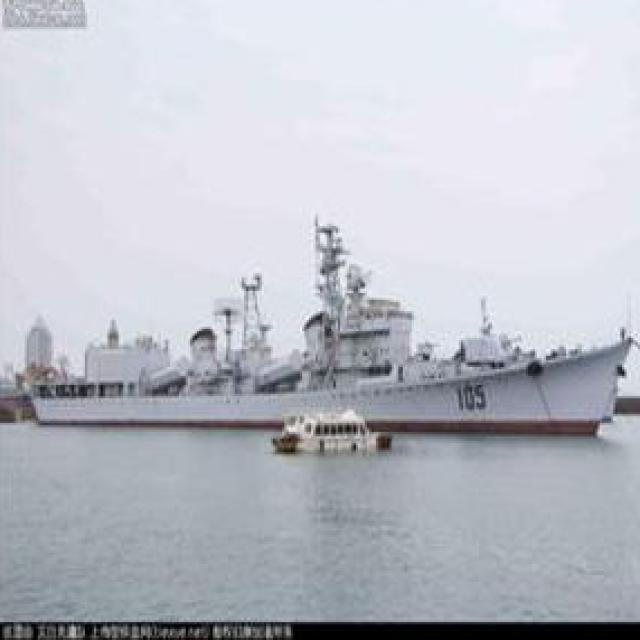houseboat: (263, 404, 401, 467)
navalvessels: (24, 212, 640, 445)
